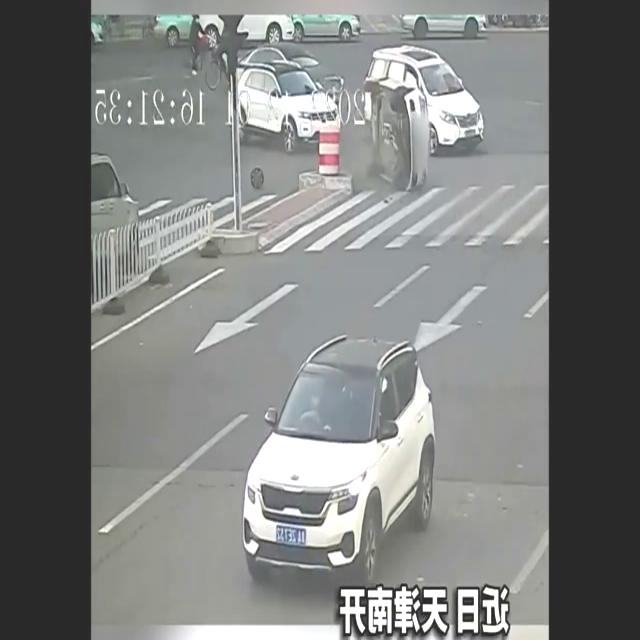accident: (354, 72, 436, 202)
non-accident: (229, 43, 345, 157)
